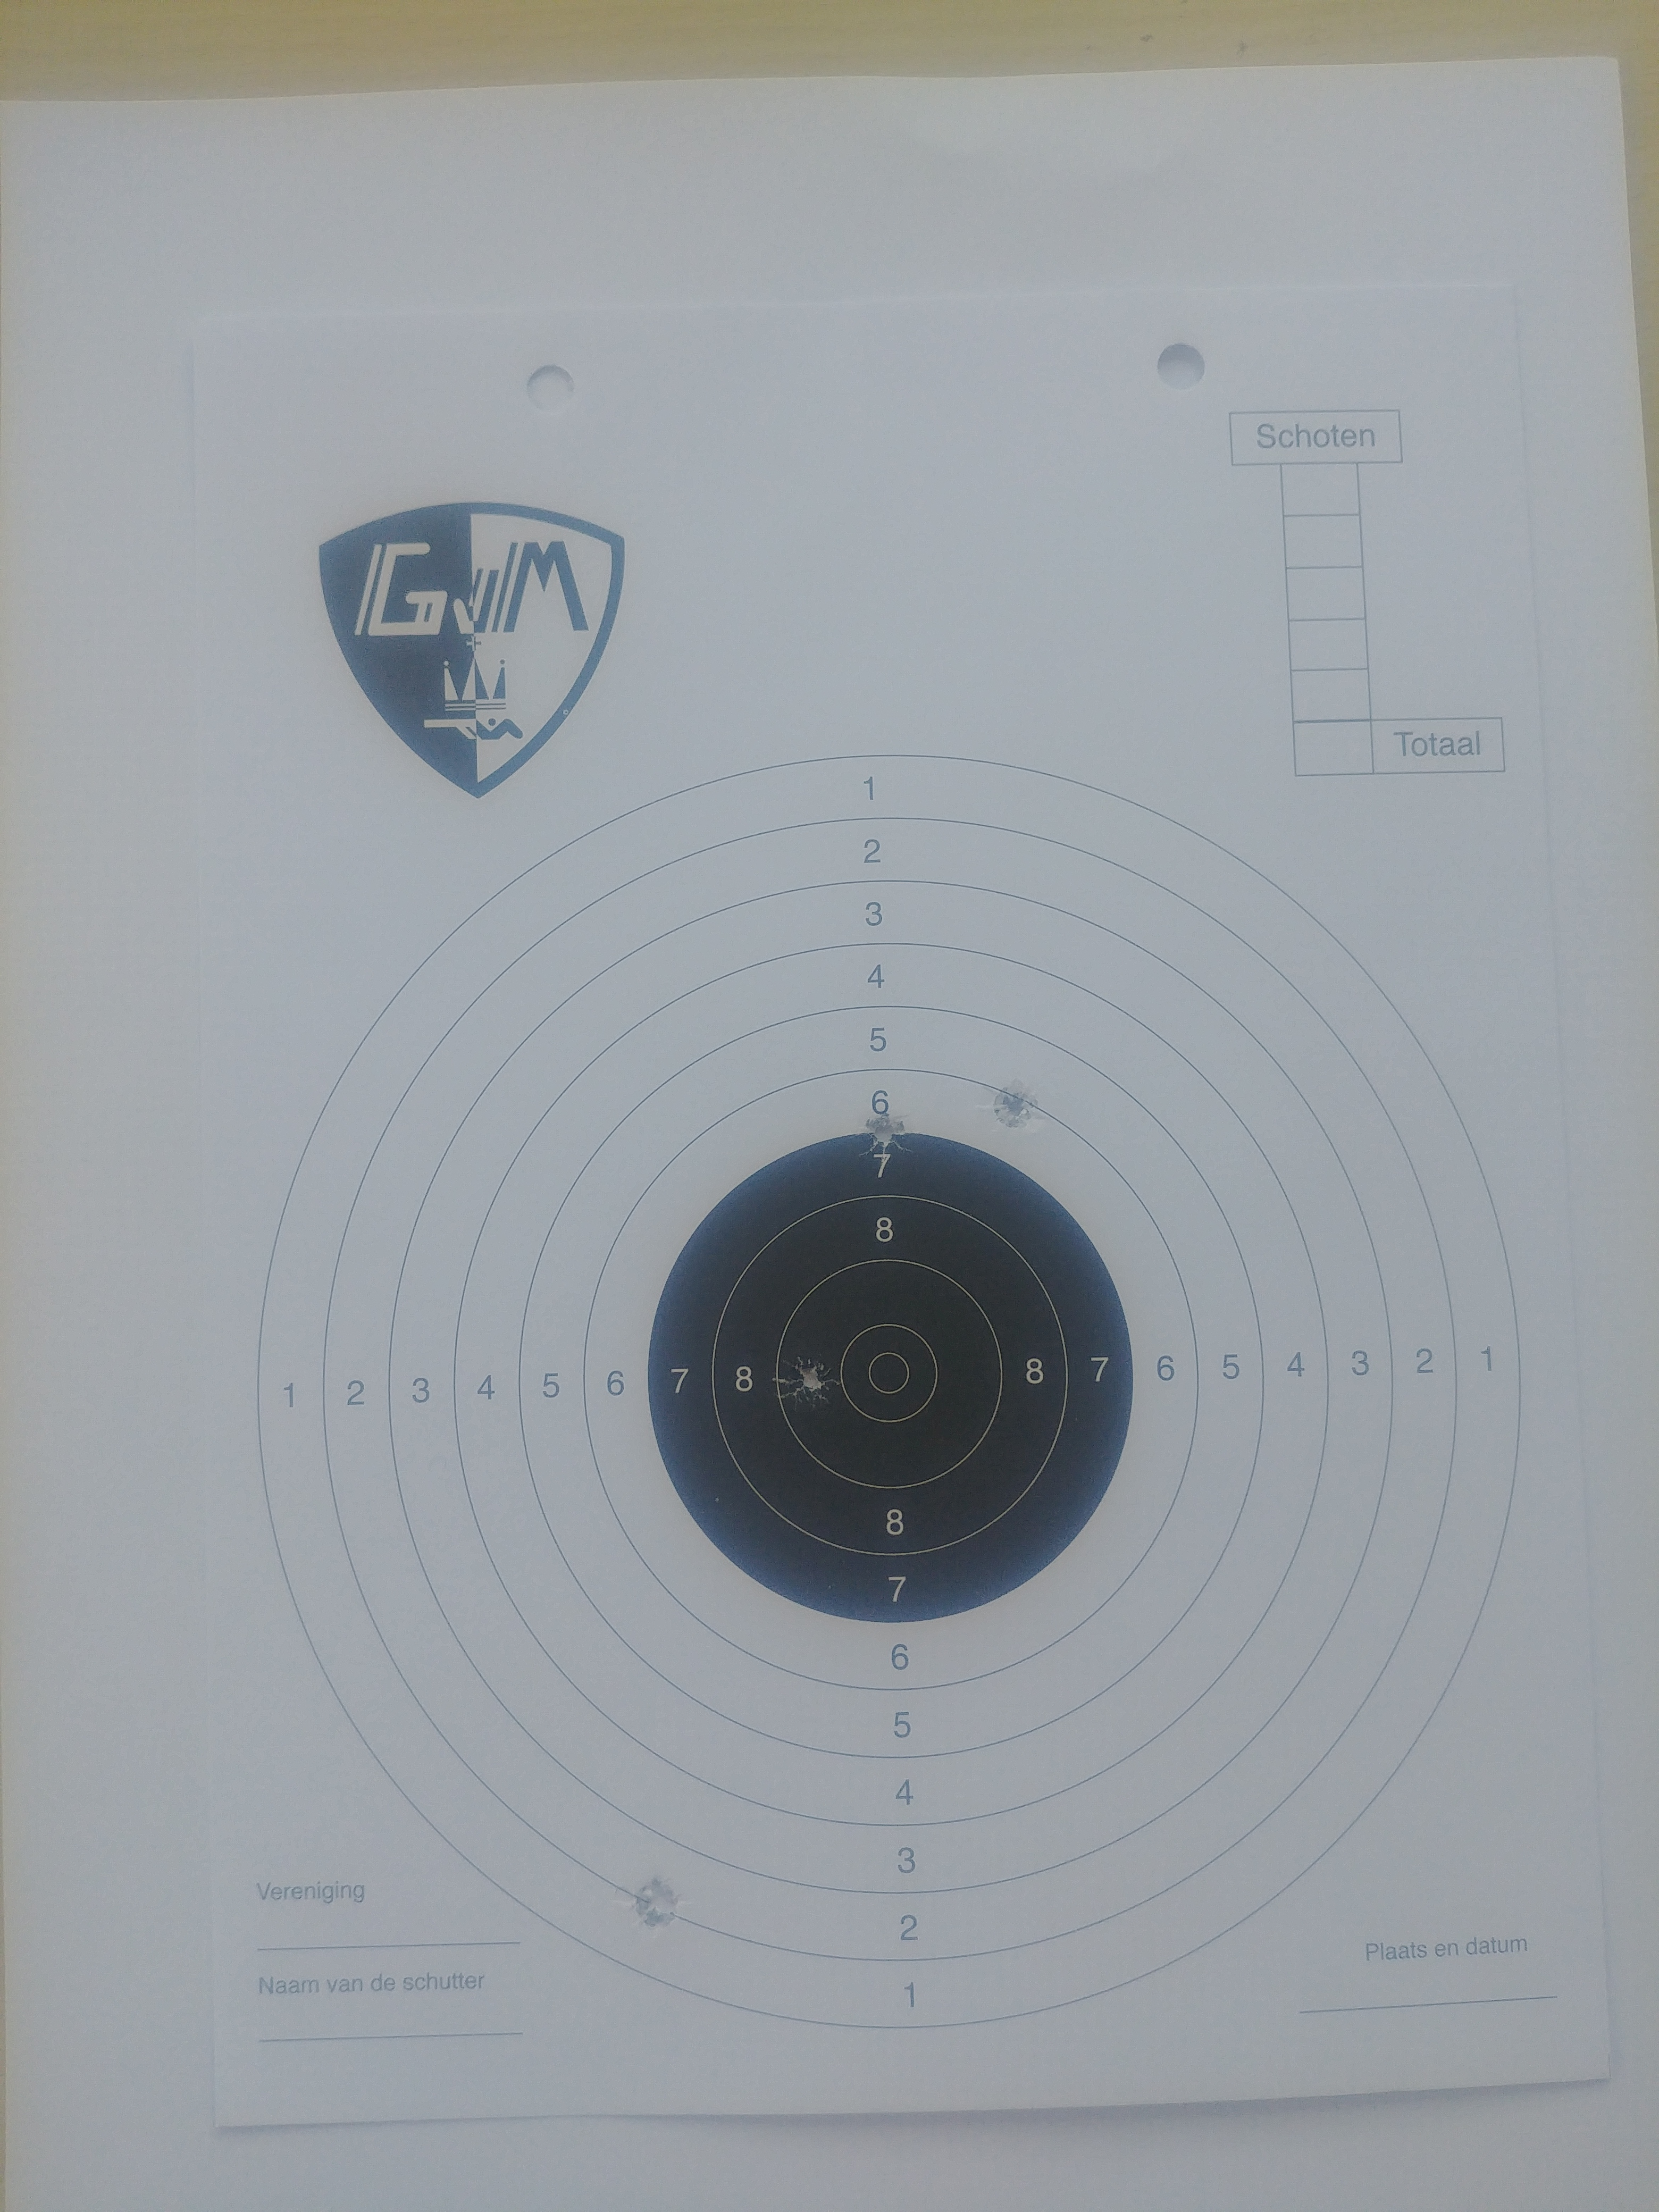center: (648, 1132, 1134, 1623)
out: (253, 752, 1523, 2027)
shot: (772, 1355, 842, 1406), (983, 1076, 1042, 1134), (633, 1876, 681, 1928), (861, 1111, 911, 1160)
target: (840, 1322, 938, 1423)
